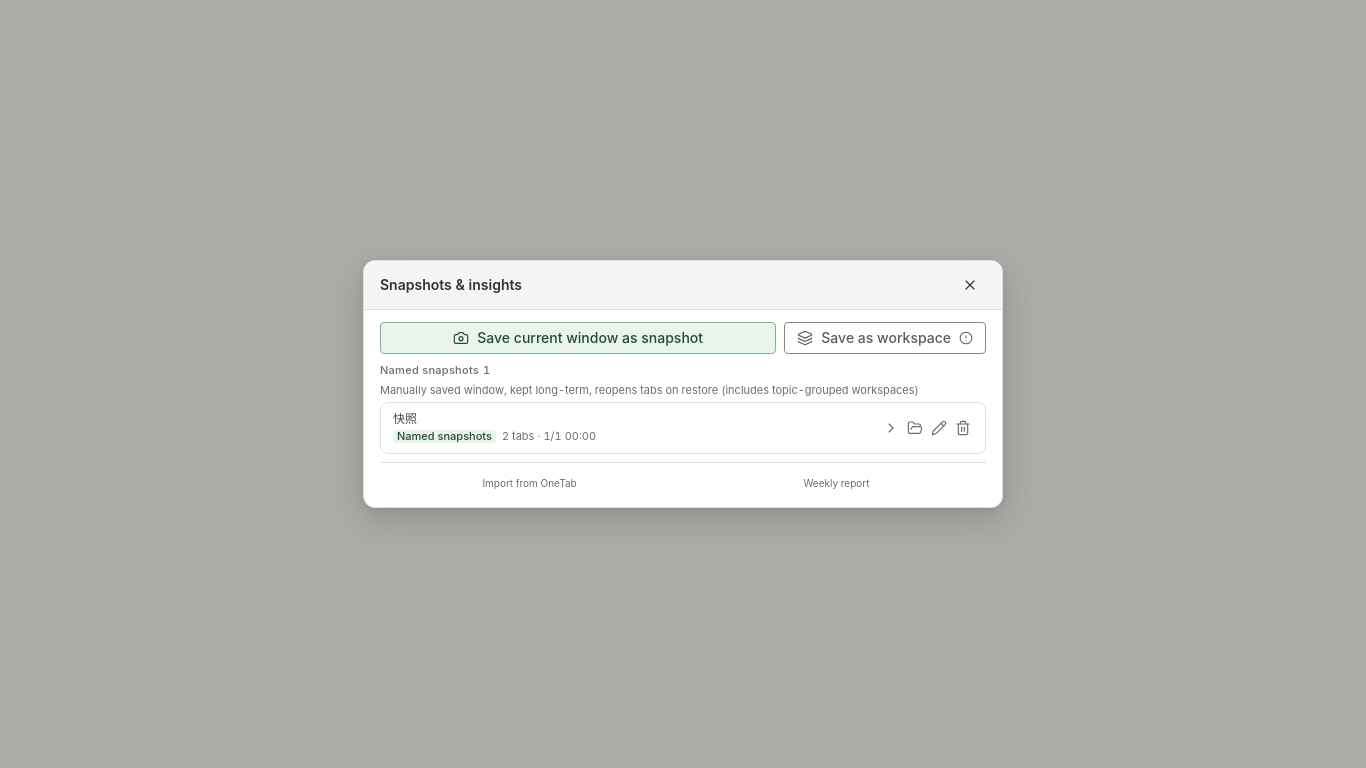
Scenario: SnapshotsPanel 恢复预览 › 默认全选：选择性恢复按钮显示全部条目数
The image size is (1366, 768).
Click the button named "View tabs in this snapshot". click: (891, 428)
box: [881,418,901,438]
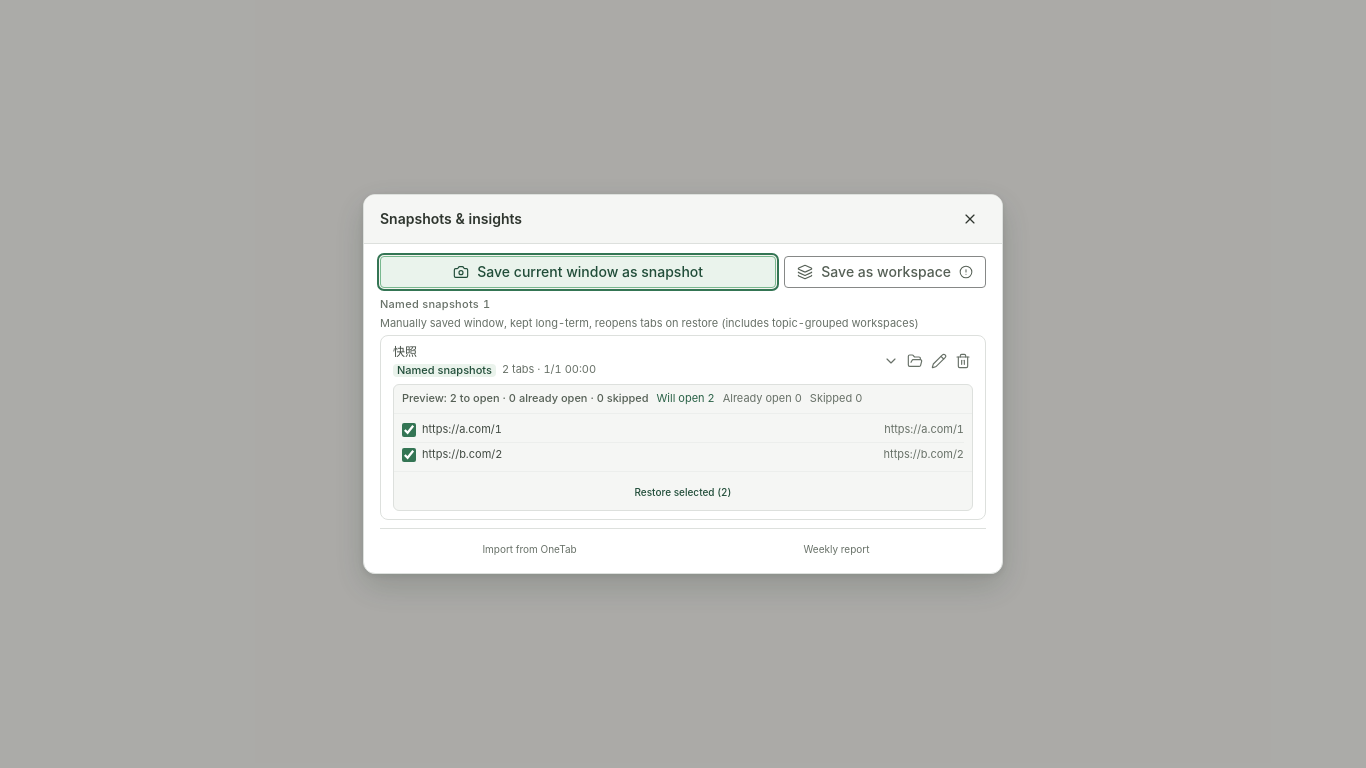
Expected: the button "Restore selected (2)" is shown, [402,480,964,504]
